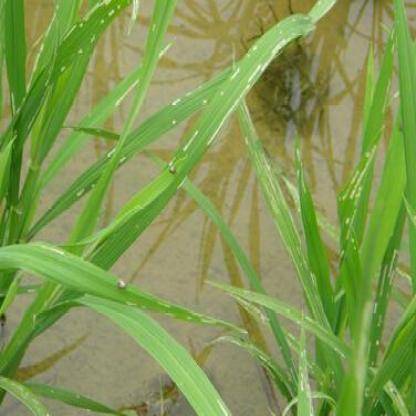rice-bug: (118, 275, 129, 293), (168, 160, 177, 174)
